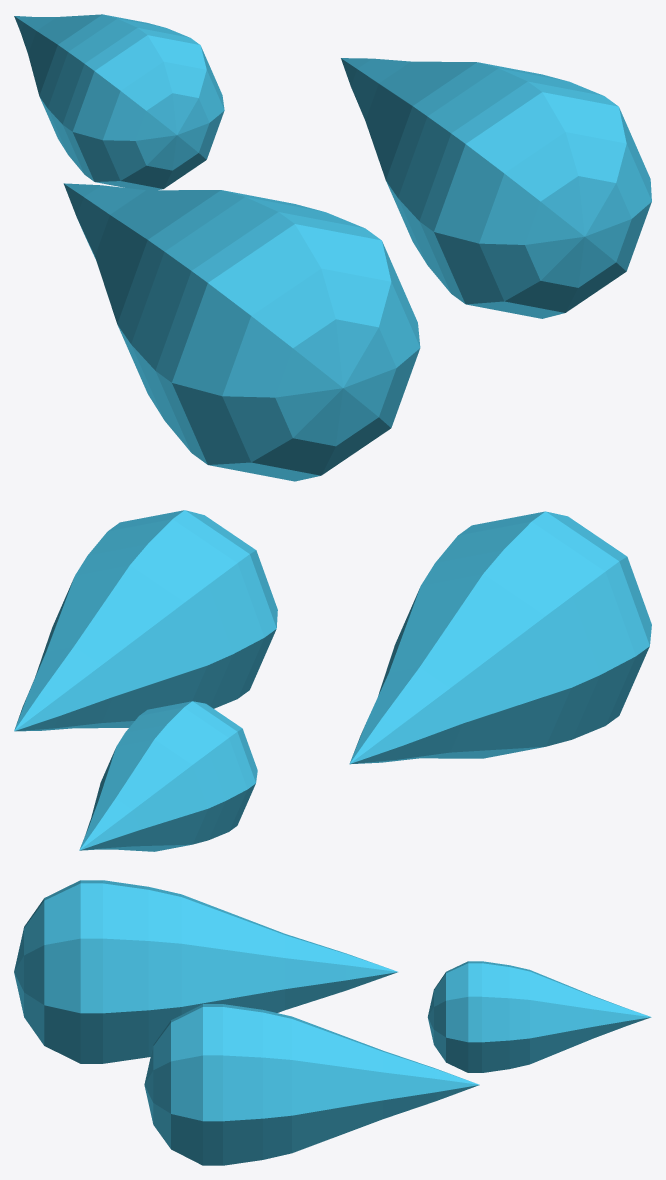
The model's file is SM_ResourceWater.FBX.
The picture shows the model from 3 angles, top to bottom: view 1: azimuth 30°, elevation 25°; view 2: azimuth 150°, elevation 25°; view 3: azimuth 270°, elevation 25°; orthographic projection. The views are drawn at different scales.
Parts seen in each view (by area): view 1: SM_Water; view 2: SM_Water; view 3: SM_Water.
Boxes of the visible parts, <box> form: SM_Water: <box>14,14,651,481</box>; SM_Water: <box>14,510,651,851</box>; SM_Water: <box>14,880,651,1165</box>.
Bounding box in the file's own units: 9.93 × 14.05 × 4.3.
